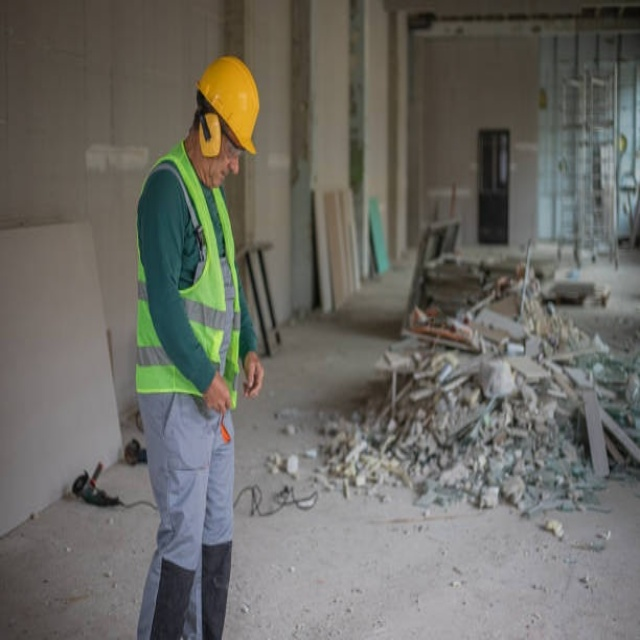Gafas: (221, 130, 248, 160)
Sin_guantes: (204, 369, 233, 415), (242, 352, 264, 398)
Sin_mascara: (213, 166, 235, 187)
